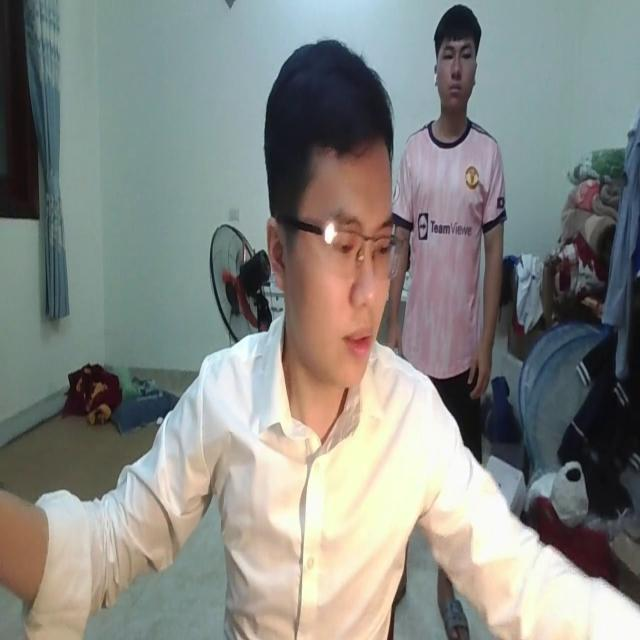extra_person: (388, 0, 506, 451)
student: (0, 39, 640, 640)
